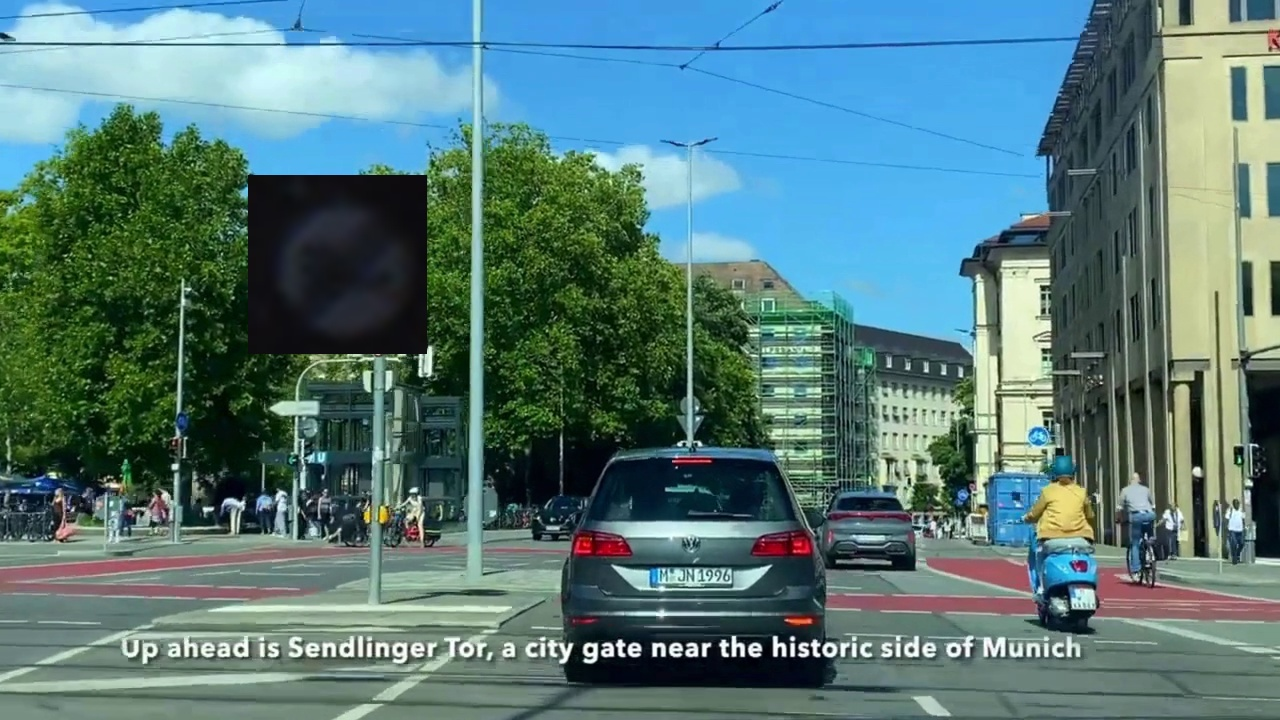End no pass >3.5t: (248, 175, 427, 354)
